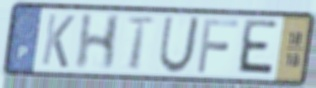E: (234, 17, 281, 79)
F: (195, 17, 241, 75)
H: (72, 13, 124, 72)
K: (39, 11, 77, 70)
T: (124, 15, 158, 73)
U: (156, 15, 202, 76)
